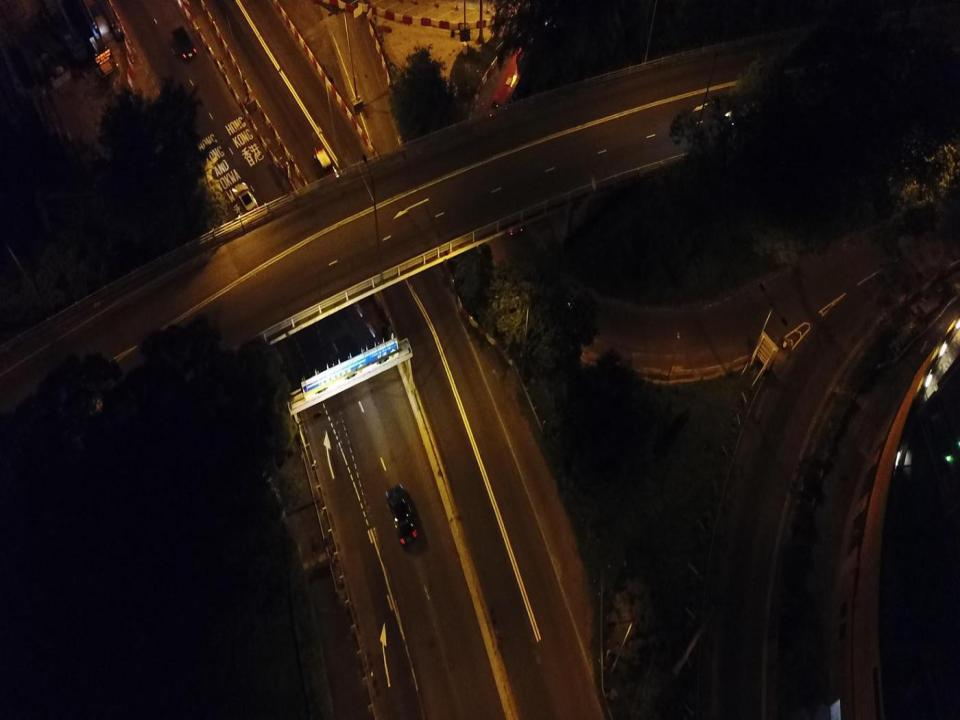car: (490, 38, 532, 124), (386, 483, 416, 549), (725, 98, 774, 130), (233, 181, 263, 222), (312, 145, 338, 185), (173, 24, 196, 63)
